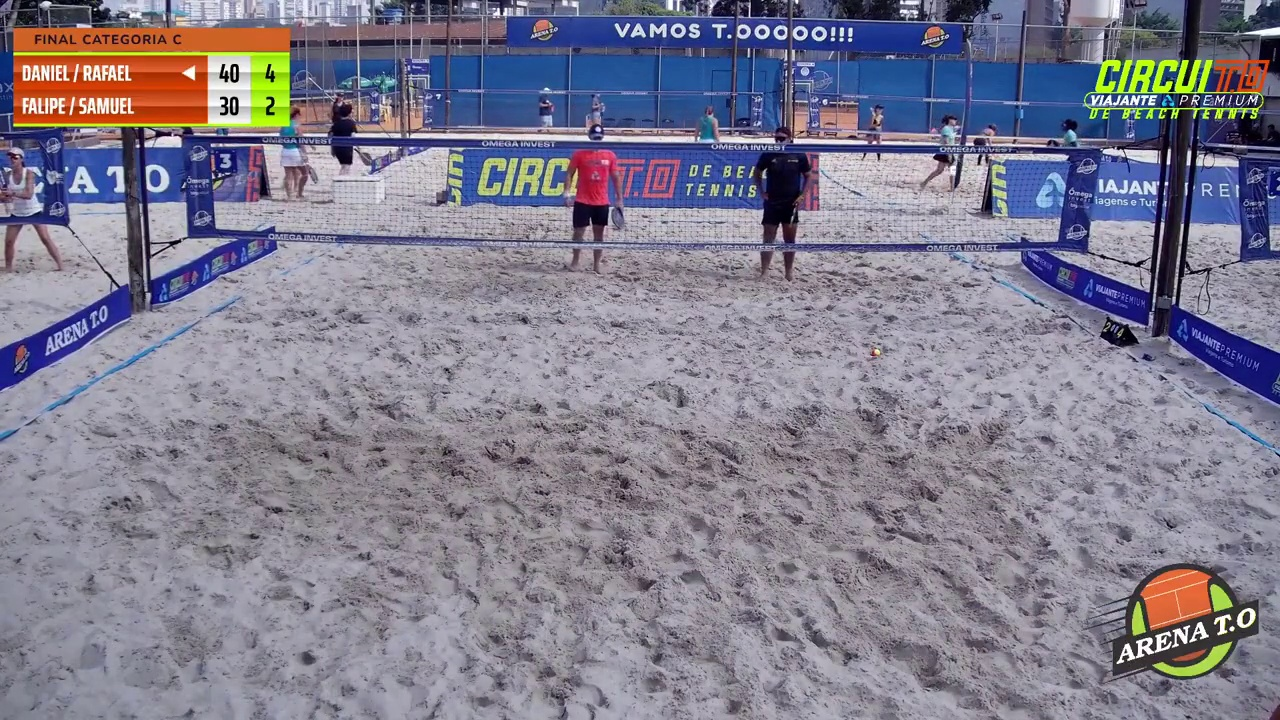court_line: (640, 0, 808, 356)
